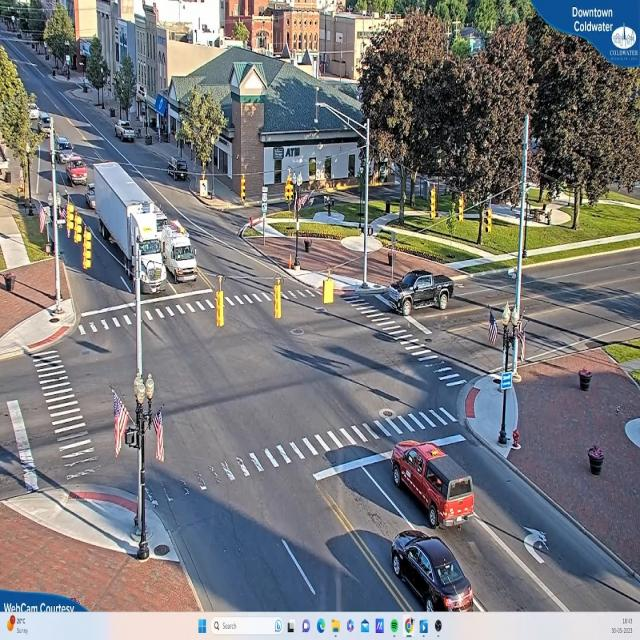car: (392, 439, 477, 529), (391, 528, 481, 610), (389, 272, 454, 313), (64, 156, 89, 186), (116, 124, 137, 144)
truck: (96, 162, 166, 291)
